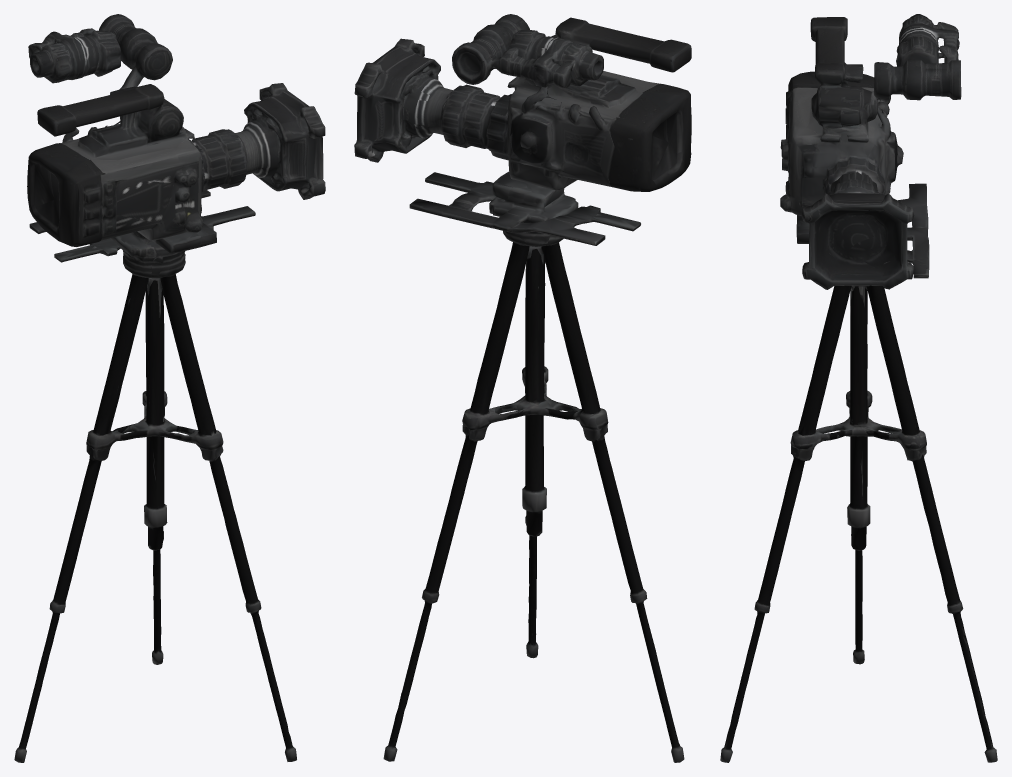
Rendered from Camera.glb.
3 views of the same model, side by side, from view 1: azimuth 30°, elevation 25°; view 2: azimuth 150°, elevation 25°; view 3: azimuth 270°, elevation 25° (orthographic). The views are drawn at different scales.
Parts seen in each view (by area): view 1: Camera; view 2: Camera; view 3: Camera.
Boxes of the visible parts, bbox=[...] form: Camera: bbox=[14, 14, 325, 762]; Camera: bbox=[354, 14, 691, 762]; Camera: bbox=[720, 14, 997, 762].
Size of the model in its own units: 0.1311 by 0.2998 by 0.1112.
1 material, 1 textured.
